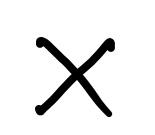mult: (36, 36, 116, 118)
